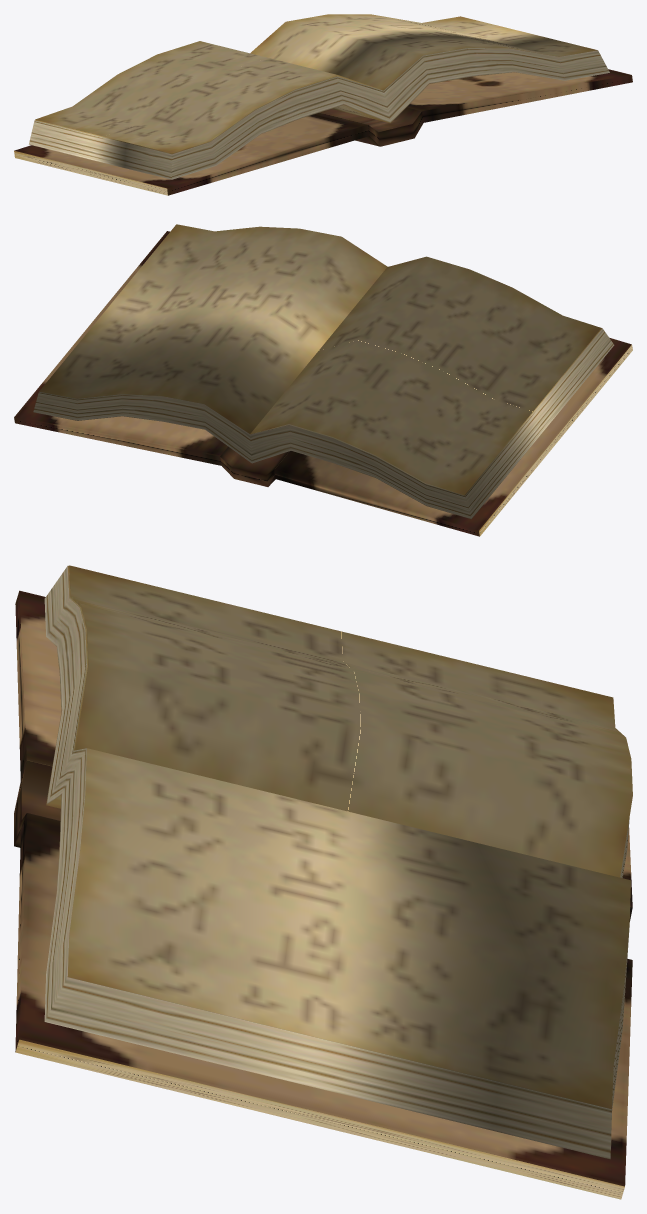
File: FolderIcon.ico.obj
3 views of the same model, one above another, from view 1: azimuth 30°, elevation 25°; view 2: azimuth 150°, elevation 25°; view 3: azimuth 270°, elevation 25° (orthographic). The views are drawn at different scales.
Bounding box in the file's own units: 4.08 × 1.16 × 2.38.
1 material, 1 textured.
